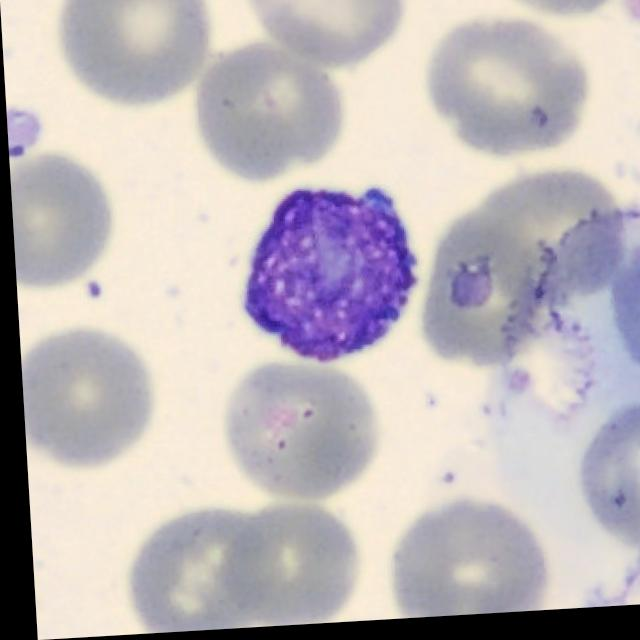Linfocito: (239, 191, 414, 364)
